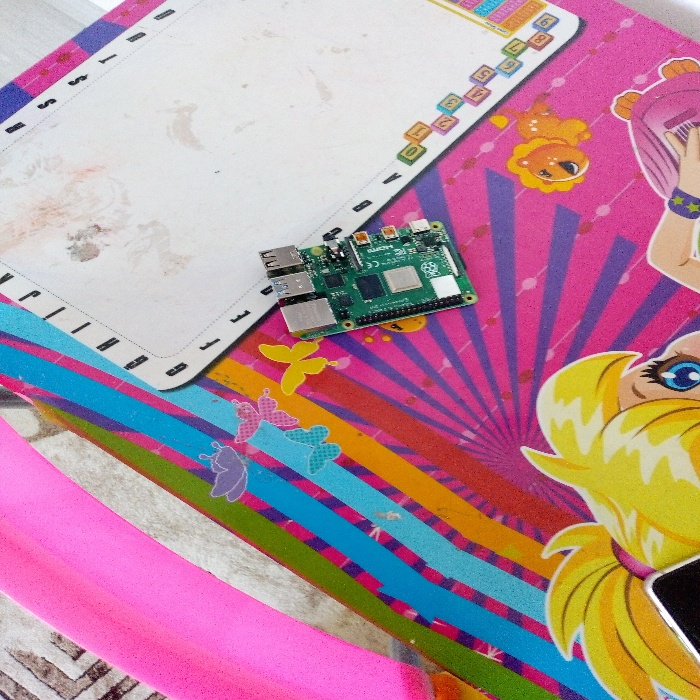raspberry: (260, 211, 477, 350)
